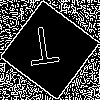T: (25, 25, 62, 75)
